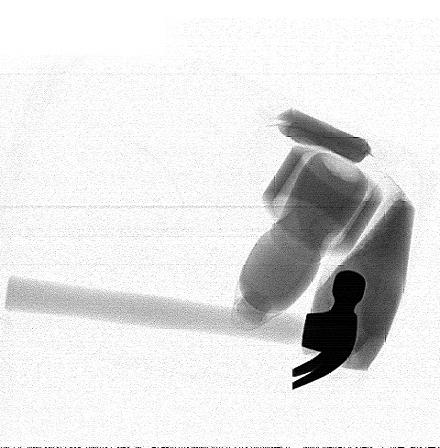Hammer: (4, 270, 366, 391)
